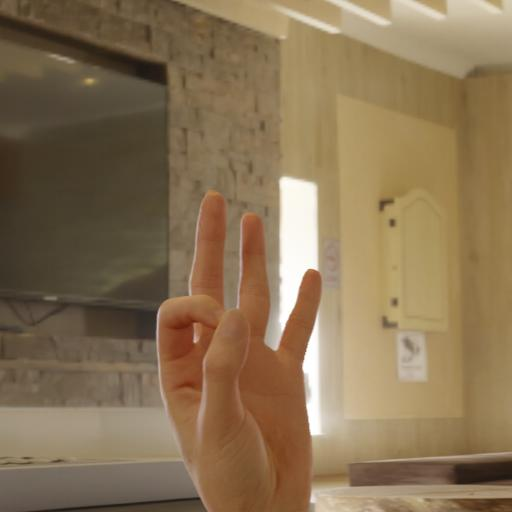F: (121, 159, 350, 511)
